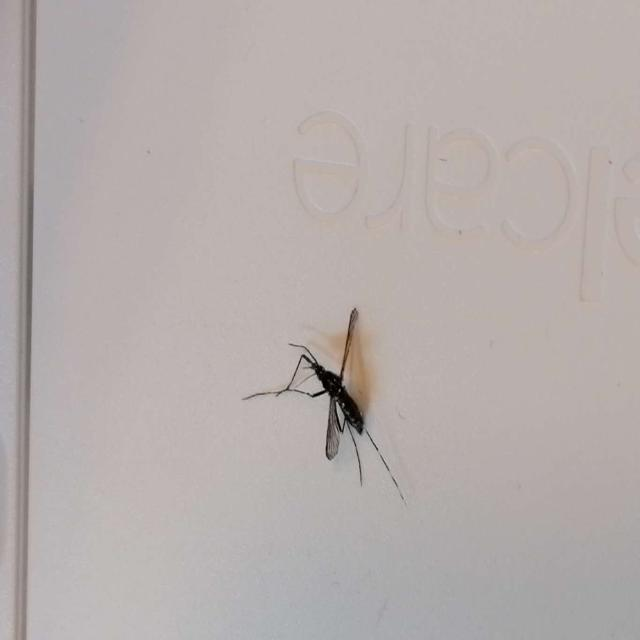albopictus: (244, 301, 406, 498)
